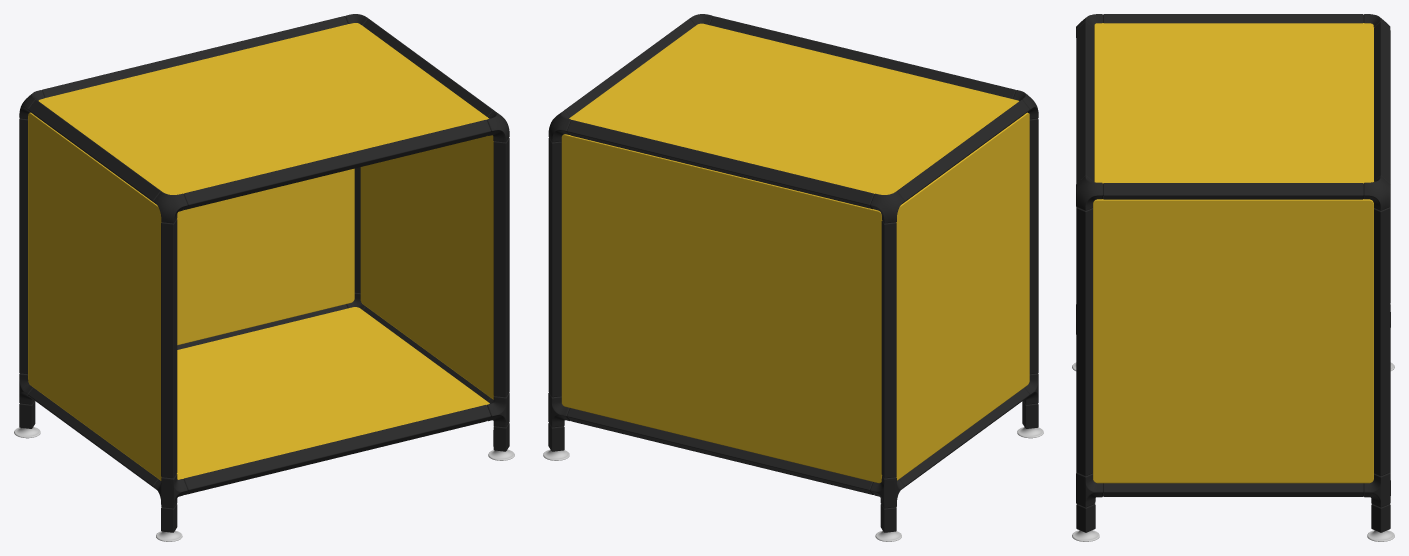
3 renders of one model, left to right at view 1: azimuth 30°, elevation 25°; view 2: azimuth 150°, elevation 25°; view 3: azimuth 270°, elevation 25°, orthographic. The views are drawn at different scales.
Visible parts, largest first — view 1: 523x374x420; view 2: 523x374x420; view 3: 523x374x420.
Part boxes in pixels (box(x1,y1,x2,y2)): 523x374x420: box(14, 14, 514, 541); 523x374x420: box(543, 14, 1043, 541); 523x374x420: box(1072, 14, 1394, 541).
Size of the model in its own units: 0.6129 by 0.5593 by 0.4632.
